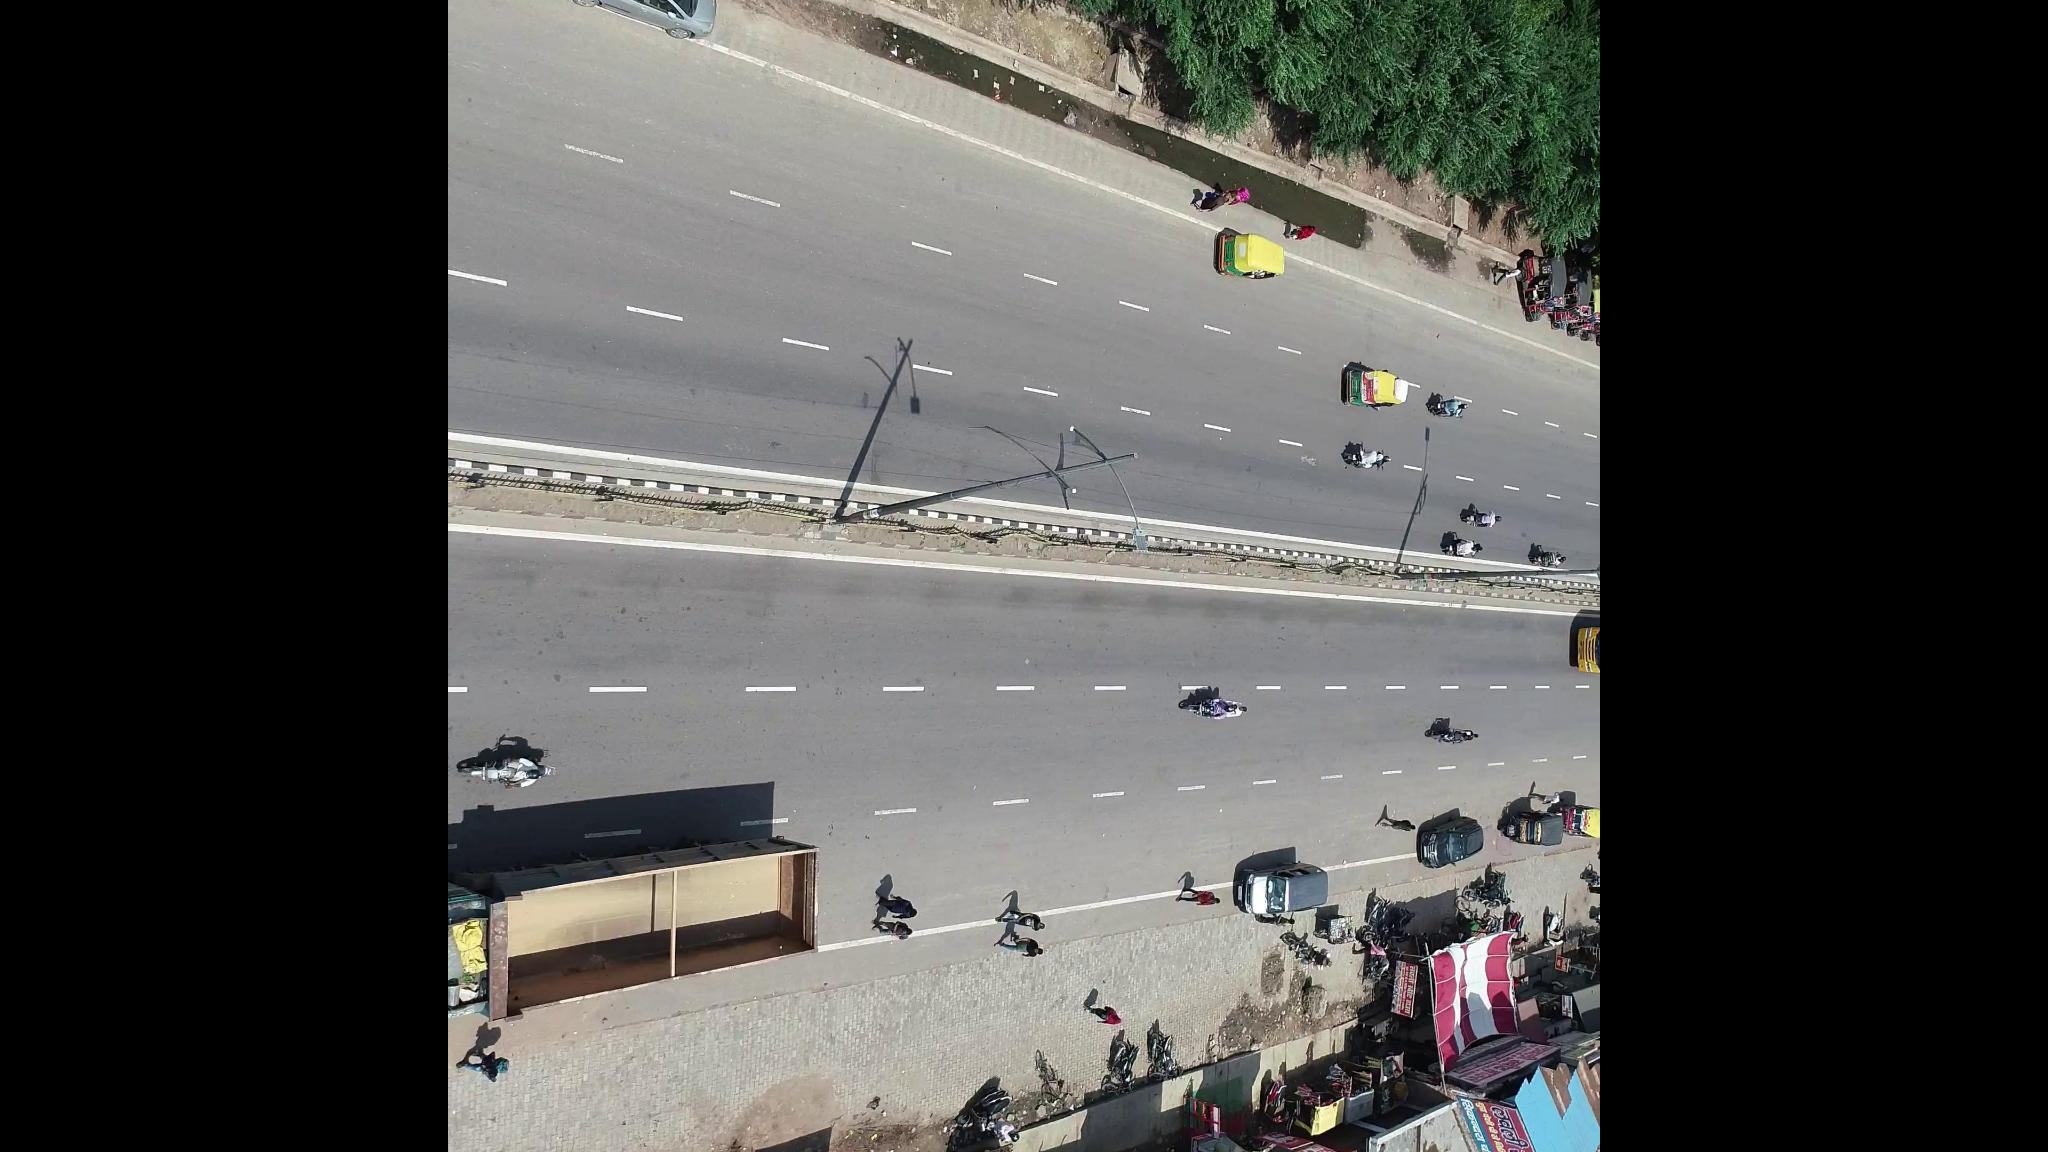Potholes: (1279, 447, 1333, 474)
